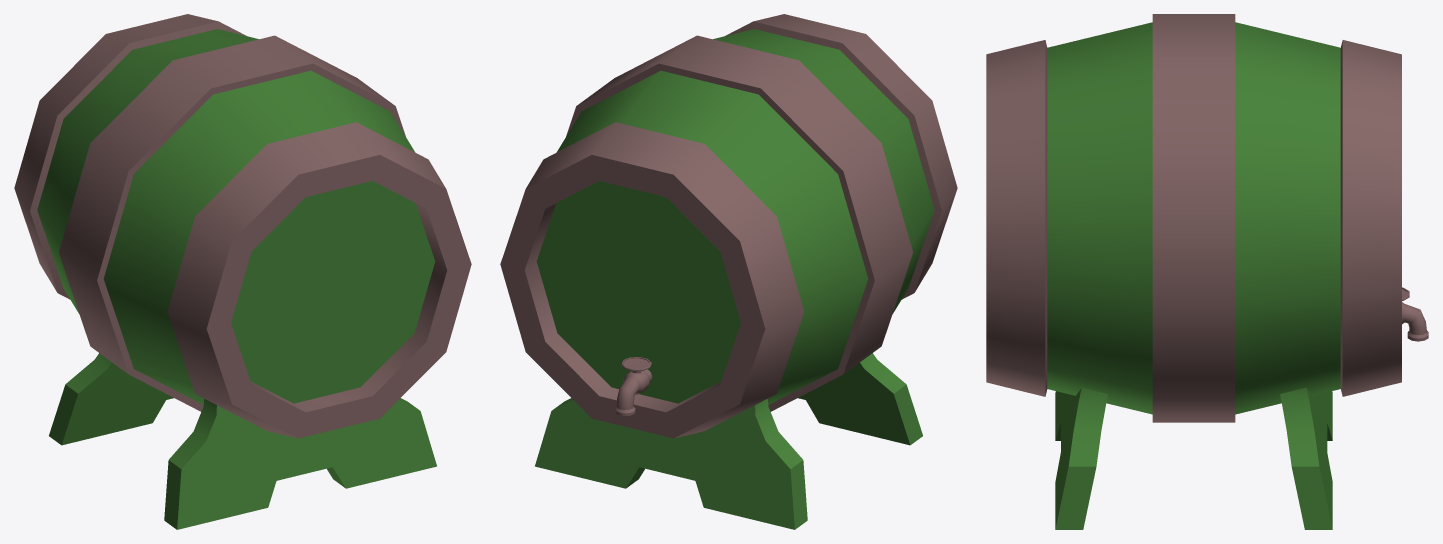
File: BeerKeg.fbx
The picture shows the model from 3 angles, left to right: view 1: azimuth 30°, elevation 25°; view 2: azimuth 150°, elevation 25°; view 3: azimuth 270°, elevation 25°; orthographic projection. The views are drawn at different scales.
Visible parts, largest first — view 1: BarrelBase, BarrelLeg1, BarrelLeg2; view 2: BarrelBase, BarrelLeg2, BarrelLeg1, FaucetBase; view 3: BarrelBase, BarrelLeg1, BarrelLeg2, FaucetBase.
Boxes of the visible parts, box(x1,y1,x2,y2) form: BarrelBase: box(14, 14, 471, 438); BarrelLeg1: box(164, 398, 436, 529); BarrelLeg2: box(49, 353, 173, 445); BarrelBase: box(500, 14, 957, 438); BarrelLeg2: box(535, 398, 807, 529); BarrelLeg1: box(798, 353, 922, 445); FaucetBase: box(614, 369, 652, 415); BarrelBase: box(986, 14, 1401, 422); BarrelLeg1: box(1055, 387, 1107, 529); BarrelLeg2: box(1280, 387, 1332, 529); FaucetBase: box(1402, 302, 1428, 341).
Size of the model in its own units: 3.9 by 4.4 by 4.19.
